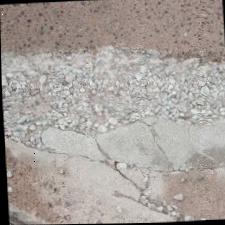spalling: (1, 44, 225, 150)
